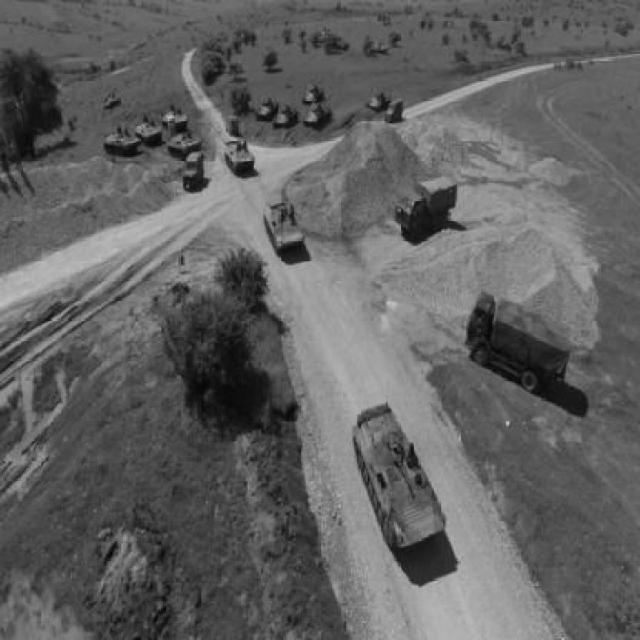Vehicle: (349, 403, 448, 557), (467, 293, 573, 395), (393, 175, 458, 236), (263, 198, 307, 253), (225, 138, 257, 175), (102, 131, 140, 156), (181, 152, 206, 189), (134, 115, 162, 147), (167, 130, 201, 155), (271, 103, 300, 129), (160, 105, 191, 129), (304, 103, 330, 129), (256, 95, 279, 119), (367, 89, 392, 111), (385, 97, 403, 123), (302, 83, 323, 102), (224, 115, 241, 136), (104, 90, 121, 109), (369, 41, 390, 55)
